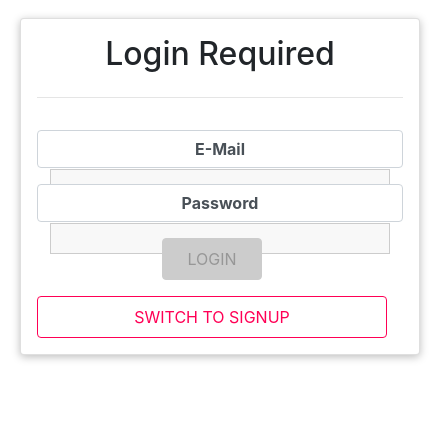
Test case: render <AuthContainer> Component › Should render SWITCH TO LOGIN button after click on SIGNUP BUTTON
The image size is (441, 432).
Click the button "SWITCH TO SIGNUP": (212, 317) 37,296 -> 387,338
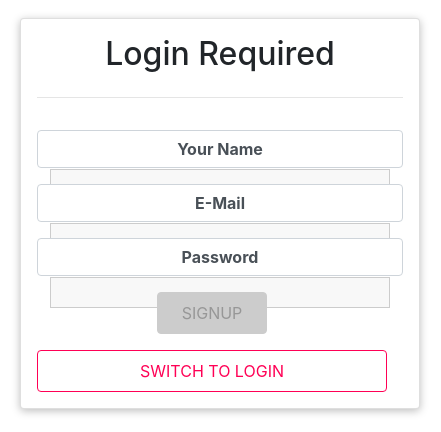
Now the button "SWITCH TO LOGIN" is shown
Click the button "SWITCH TO LOGIN": (212, 371) 37,350 -> 387,392
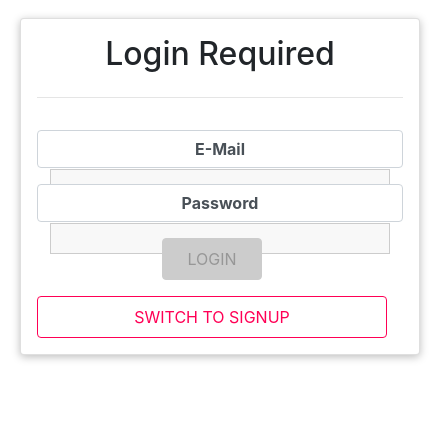
Now the button "SWITCH TO SIGNUP" is shown, box 37,296 -> 387,338
